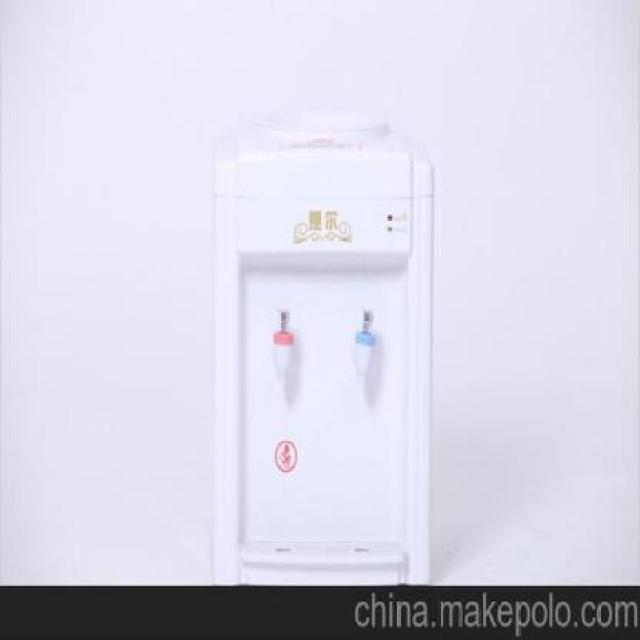cooler: (208, 104, 432, 586)
